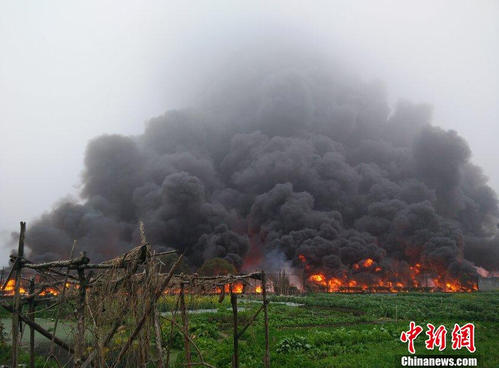fire: (7, 254, 479, 296)
smoke: (74, 84, 487, 248)
